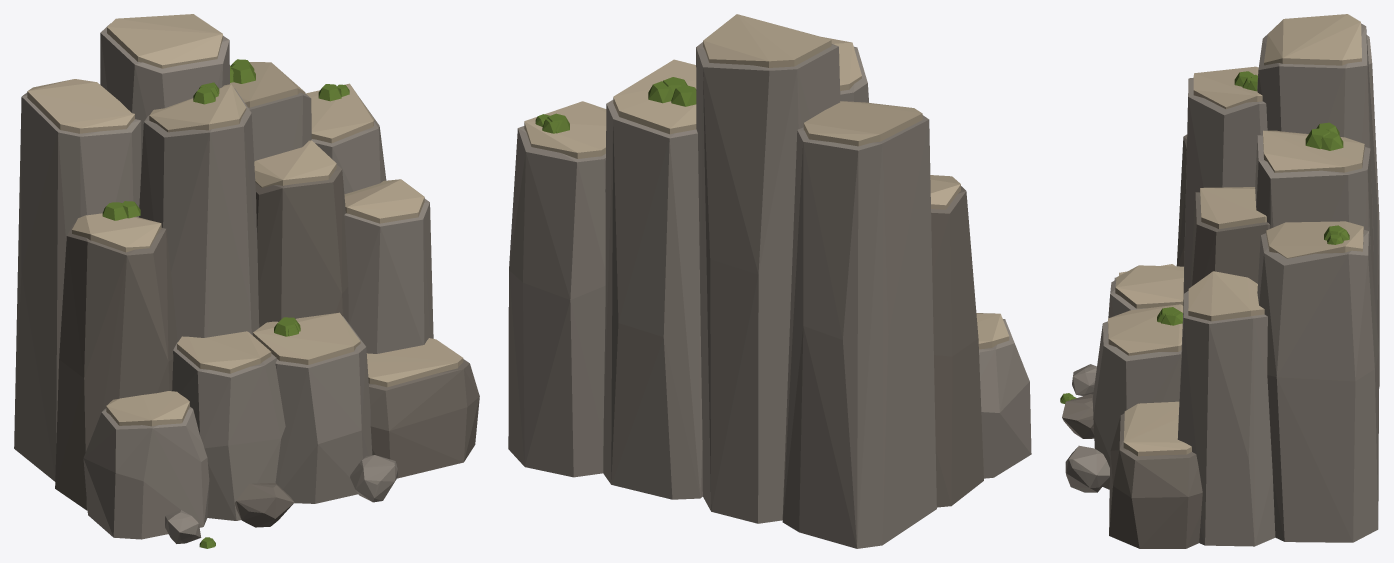
Rendered from Cliff_C.fbx.
The picture shows the model from 3 angles, left to right: view 1: azimuth 30°, elevation 25°; view 2: azimuth 150°, elevation 25°; view 3: azimuth 270°, elevation 25°; orthographic projection. The views are drawn at different scales.
Parts seen in each view (by area): view 1: Cliff, CliffDark, RockLight, Moss; view 2: Cliff, RockLight, CliffDark, Moss; view 3: Cliff, RockLight, CliffDark, Moss.
Part boxes in pixels (box(x1,y1,x2,y2)): Cliff: box(14, 23, 433, 543); CliffDark: box(55, 164, 479, 527); RockLight: box(27, 14, 463, 426); Moss: box(102, 59, 349, 548); Cliff: box(508, 42, 1031, 548); RockLight: box(524, 14, 1009, 349); CliffDark: box(931, 186, 983, 507); Moss: box(535, 77, 696, 133); Cliff: box(1065, 23, 1379, 546); RockLight: box(1108, 14, 1364, 456); CliffDark: box(1062, 134, 1270, 548); Moss: box(1060, 71, 1349, 403).
Bounding box in the file's own units: 14.52 × 15.22 × 10.86.
